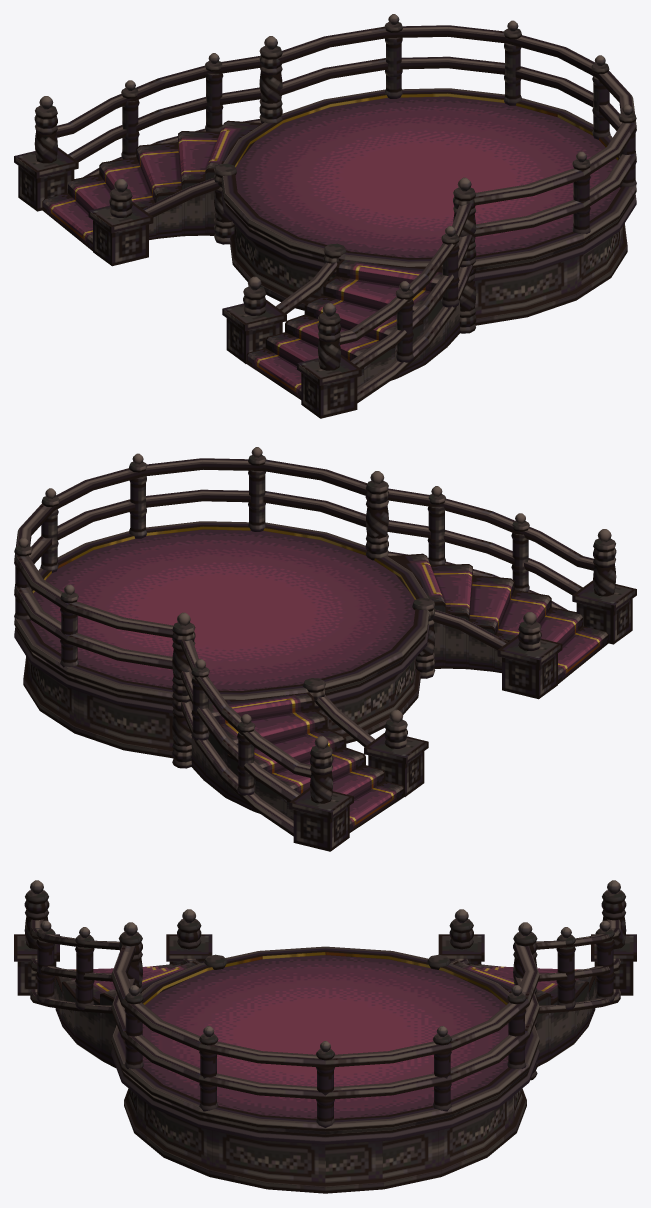
The model's file is EnvObjMD_Stage_B.FBX.
3 views of the same model, one above another, from view 1: azimuth 30°, elevation 25°; view 2: azimuth 150°, elevation 25°; view 3: azimuth 270°, elevation 25° (orthographic).
Visible parts, largest first — view 1: EnvObjMD_Stage_B; view 2: EnvObjMD_Stage_B; view 3: EnvObjMD_Stage_B.
Boxes of the visible parts, box(x1,y1,x2,y2) form: EnvObjMD_Stage_B: box(14, 14, 636, 418); EnvObjMD_Stage_B: box(14, 447, 636, 851); EnvObjMD_Stage_B: box(14, 880, 636, 1193).
Size of the model in its own units: 736 by 240 by 880.
